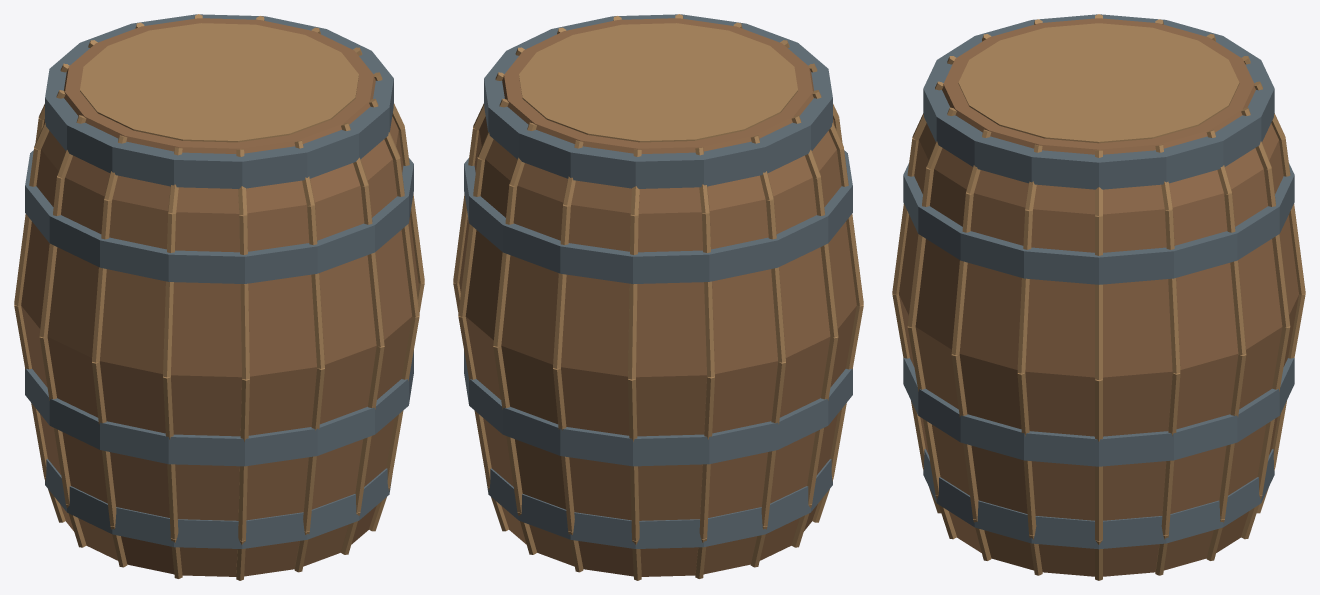
3 renders of one model, left to right at view 1: azimuth 30°, elevation 25°; view 2: azimuth 150°, elevation 25°; view 3: azimuth 270°, elevation 25°, orthographic.
Parts seen in each view (by area): view 1: body; view 2: body; view 3: body.
Part boxes in pixels (x1,y1,x2,y2): body: (14,14,424,580); body: (453,14,863,580); body: (892,14,1305,580).
Size of the model in its own units: 0.8259 by 0.946 by 0.8235.
